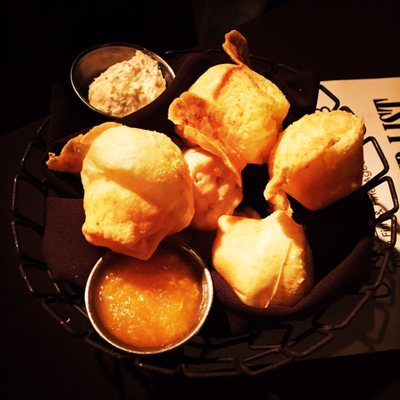sushi: (69, 43, 176, 124)
